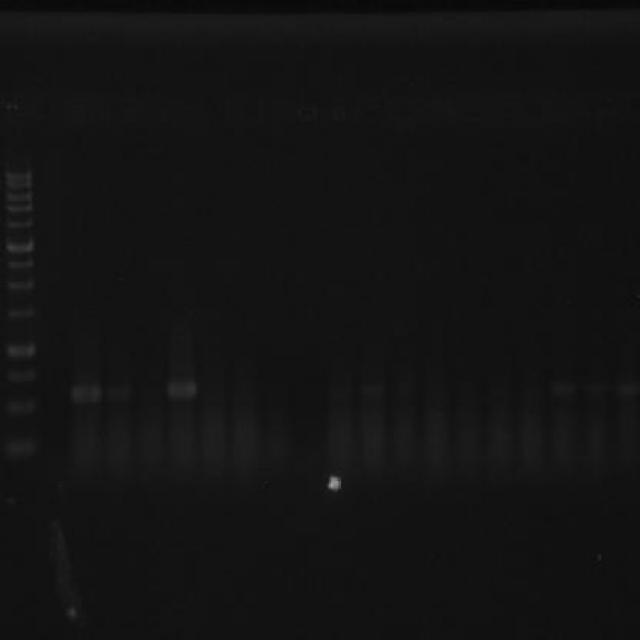B: (162, 376, 200, 402), (70, 384, 104, 407), (548, 378, 580, 398), (104, 384, 133, 406), (612, 382, 640, 400)
M: (4, 151, 41, 467)
P: (5, 434, 38, 460), (4, 365, 36, 387), (2, 235, 36, 254), (4, 396, 36, 416), (4, 340, 36, 360), (6, 276, 36, 292), (6, 303, 34, 320), (4, 216, 36, 230), (4, 258, 36, 270), (3, 202, 34, 213), (4, 169, 34, 180), (5, 179, 33, 190), (4, 192, 33, 202)
